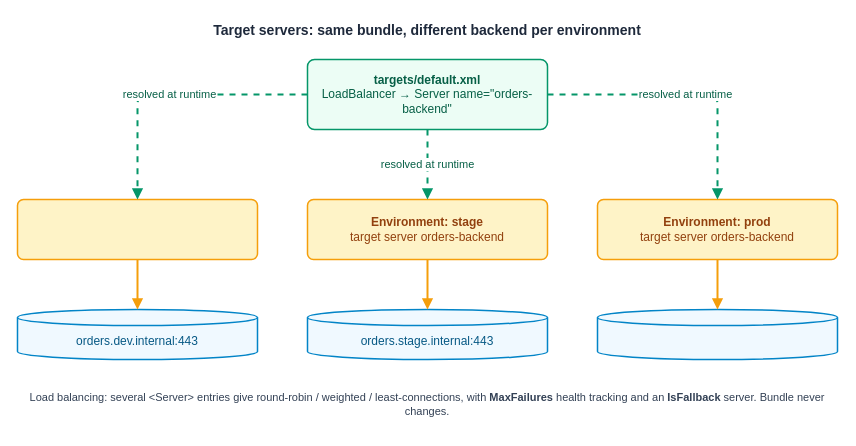
Image size: 856x446. Some labels were removed from this diagram. Here are the shapes that lost their labels. From the top down, the centre of each, then its label:
(137,229): Environment: dev target server orders-backend
(717,334): orders.internal:443
